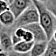cell: (1, 36, 11, 49), (2, 12, 12, 23), (17, 42, 29, 51), (27, 11, 37, 21), (42, 14, 50, 26), (35, 43, 43, 52), (15, 1, 25, 8)
